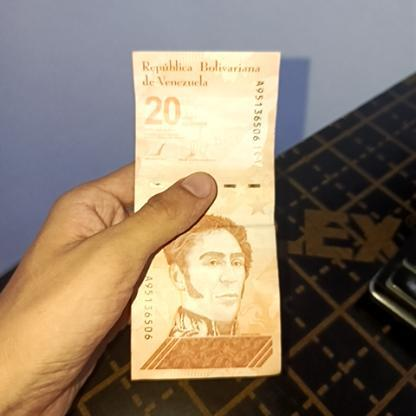twenty-front-vef: (127, 50, 282, 381)
